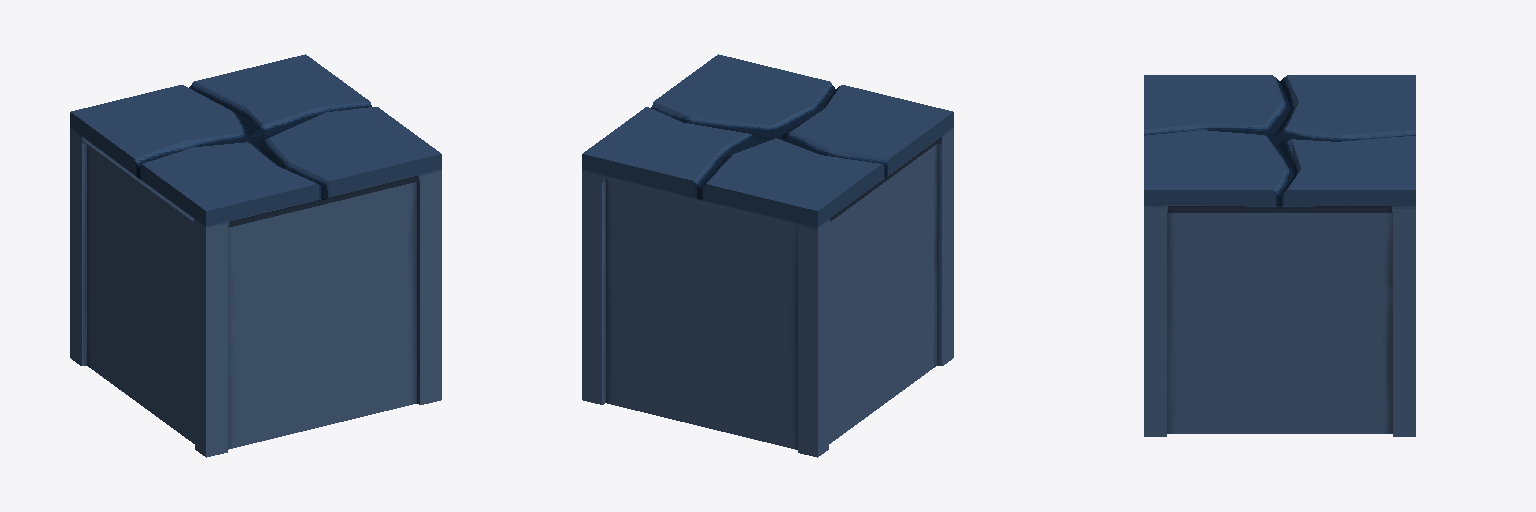
3 renders of one model, left to right at view 1: azimuth 30°, elevation 25°; view 2: azimuth 150°, elevation 25°; view 3: azimuth 270°, elevation 25°, orthographic.
Visible parts, largest first — view 1: pCube1; view 2: pCube1; view 3: pCube1.
Part boxes in pixels (bbox=[...]): pCube1: bbox=[70, 54, 441, 457]; pCube1: bbox=[582, 54, 953, 457]; pCube1: bbox=[1144, 75, 1415, 436].
Bounding box in the file's own units: 3 × 3 × 3.
Materials: 1 (1 with a texture image).